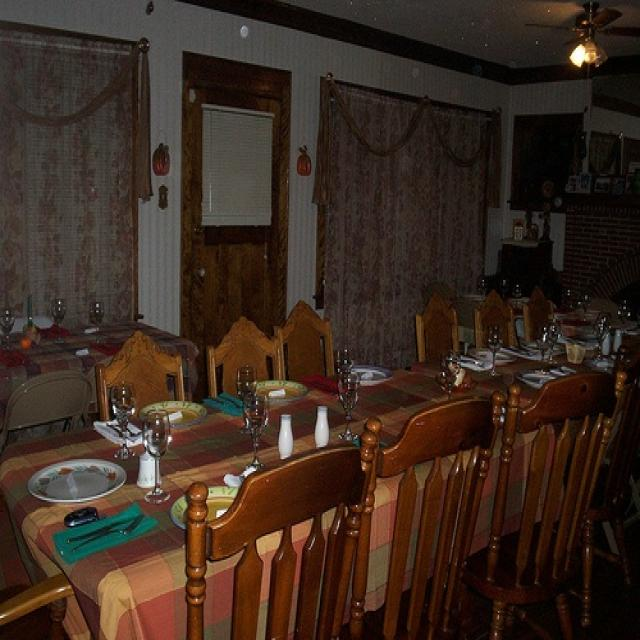chair: (470, 372, 631, 632), (184, 420, 375, 636), (354, 396, 498, 638), (94, 324, 186, 424), (204, 319, 279, 393), (279, 300, 335, 380), (416, 295, 458, 365), (476, 290, 515, 352), (525, 295, 553, 338)
diningtable: (1, 324, 638, 637)
